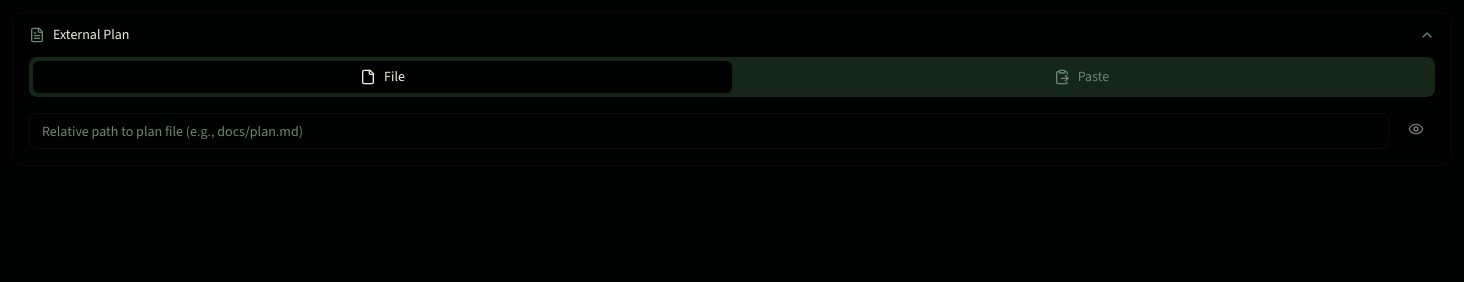
Scenario: PlanImportSection › file preview (text input fallback) › shows plan preview card after successful file read
Type "docs/plan.md" into the field with placeholder "Relative path to plan file (e.g., docs/plan.md)" at (709, 131), box [29, 113, 1389, 149]
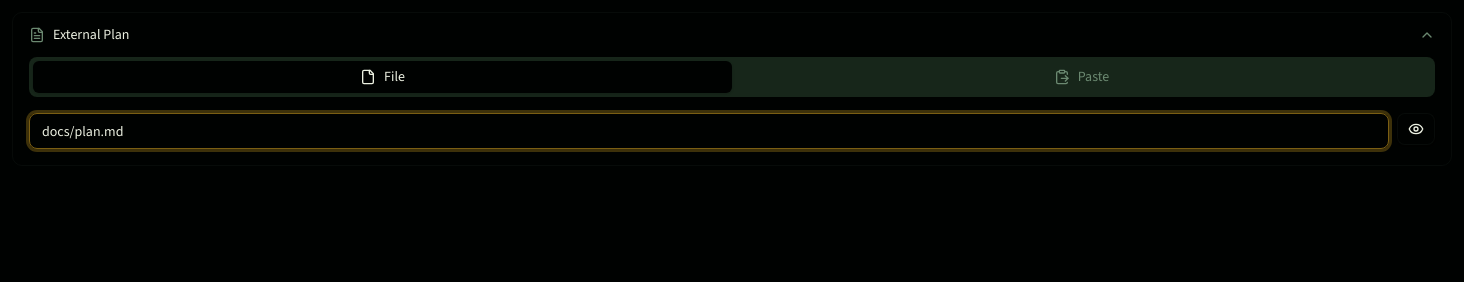
Click the button named "preview" at (1416, 129), box [1397, 113, 1435, 145]
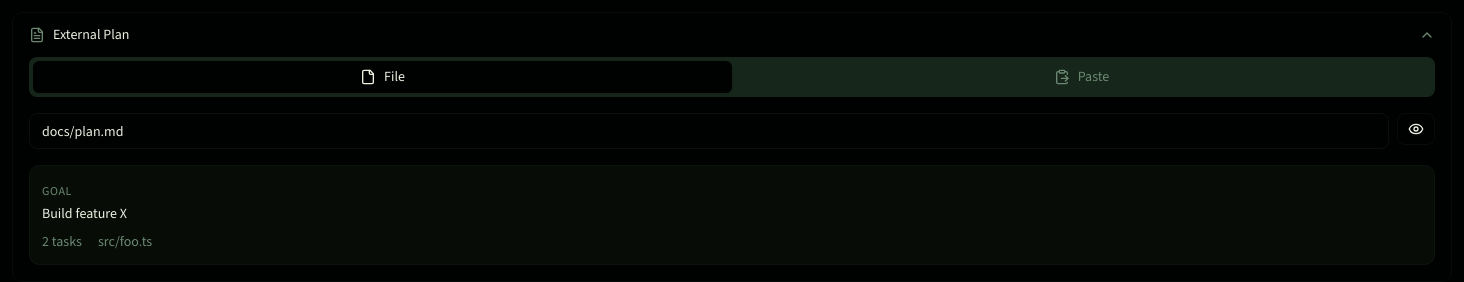
Now the element with test id "plan-preview" is shown, box [29, 165, 1435, 265]
Now the text "Build feature X" is shown, box [42, 204, 127, 223]
Now the text "2 tasks" is shown, box [42, 232, 82, 252]
